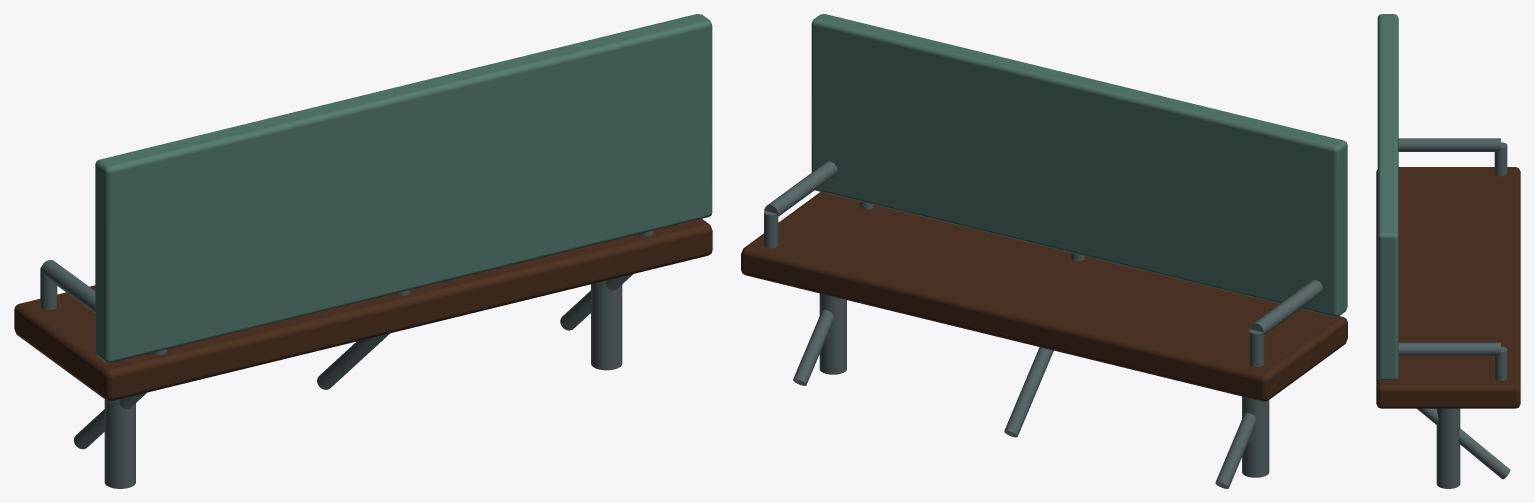
Rendered from Bench.obj.
The picture shows the model from 3 angles, left to right: view 1: azimuth 30°, elevation 25°; view 2: azimuth 150°, elevation 25°; view 3: azimuth 270°, elevation 25°; orthographic projection. The views are drawn at different scales.
Parts seen in each view (by area): view 1: Bench; view 2: Bench; view 3: Bench.
Boxes of the visible parts, x1,y1,x2,y2 form: Bench: (14, 14, 712, 488); Bench: (741, 14, 1347, 488); Bench: (1376, 14, 1520, 488).
Size of the model in its own units: 2 by 1.14 by 0.55.
